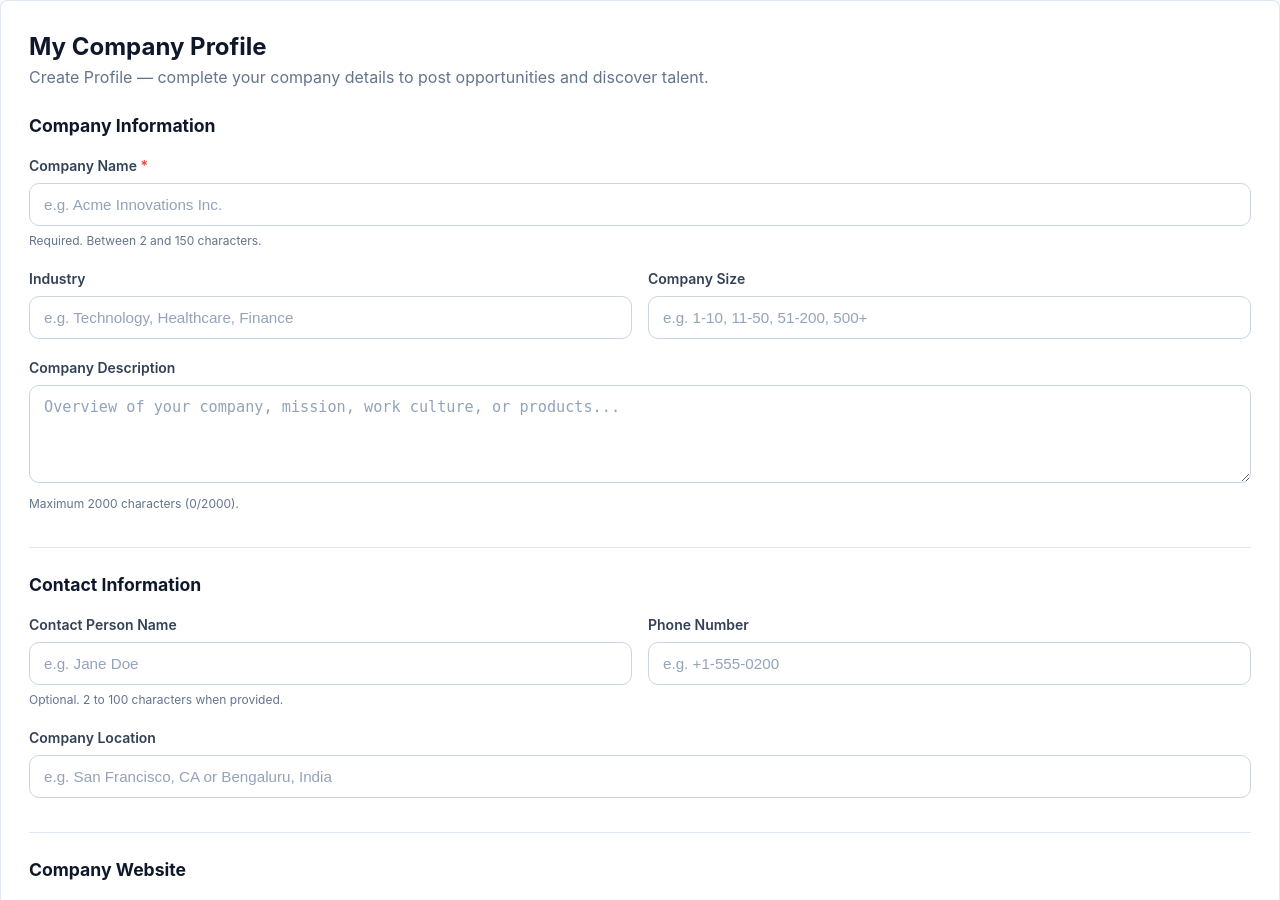
RecruiterProfilePage — Comprehensive F-04 Scenarios › Error Handling & API Resilience › handles 422 validation errors from backend detail array by mapping to field hints
The width and height of the screenshot is (1280, 900).
Type "Acme Inc." into the field labelled "Company Name *". click: x=640, y=205
box: [29, 183, 1251, 226]
(page scrolled)
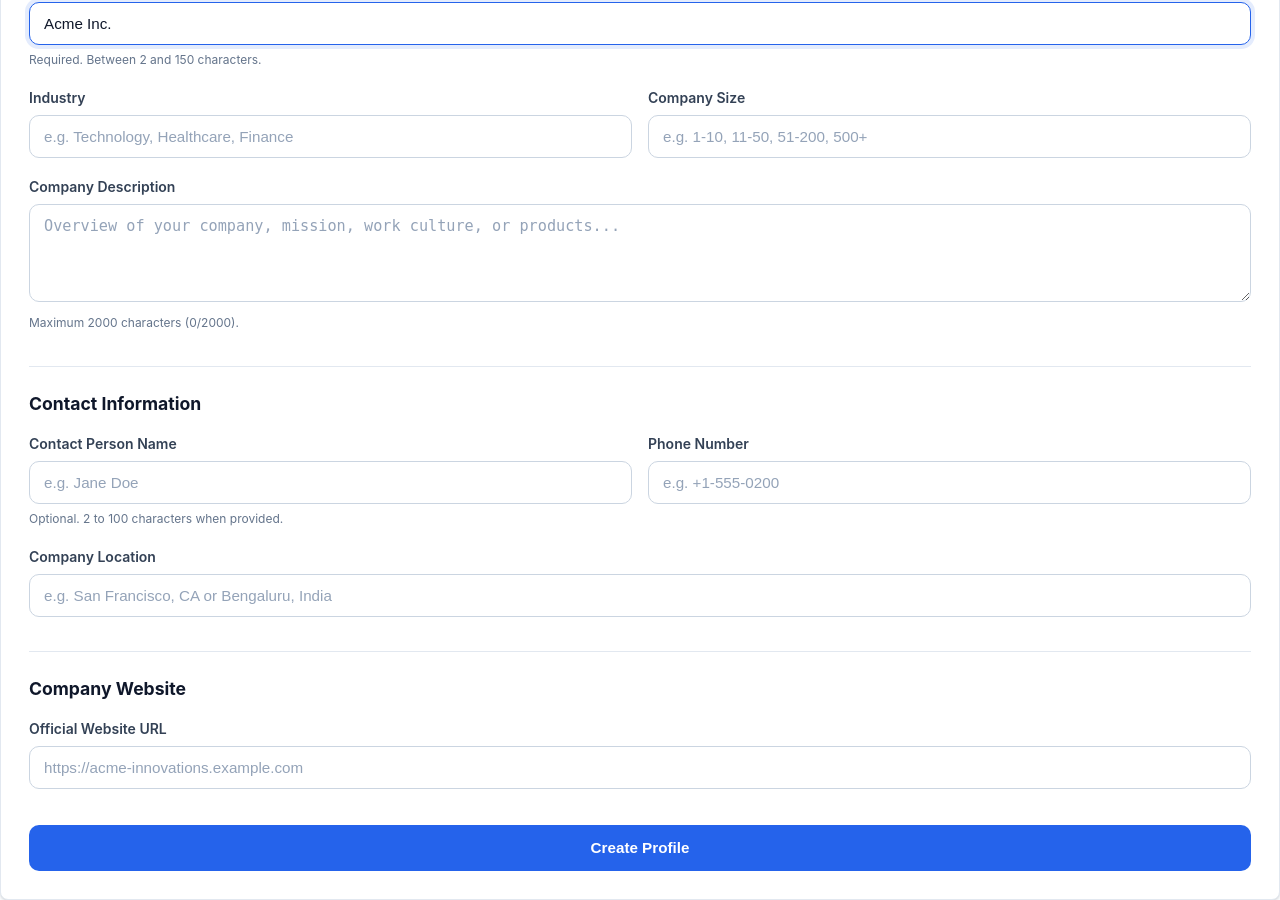
Click the button "Create Profile". click: x=640, y=848
box: [29, 825, 1251, 871]
(page scrolled)
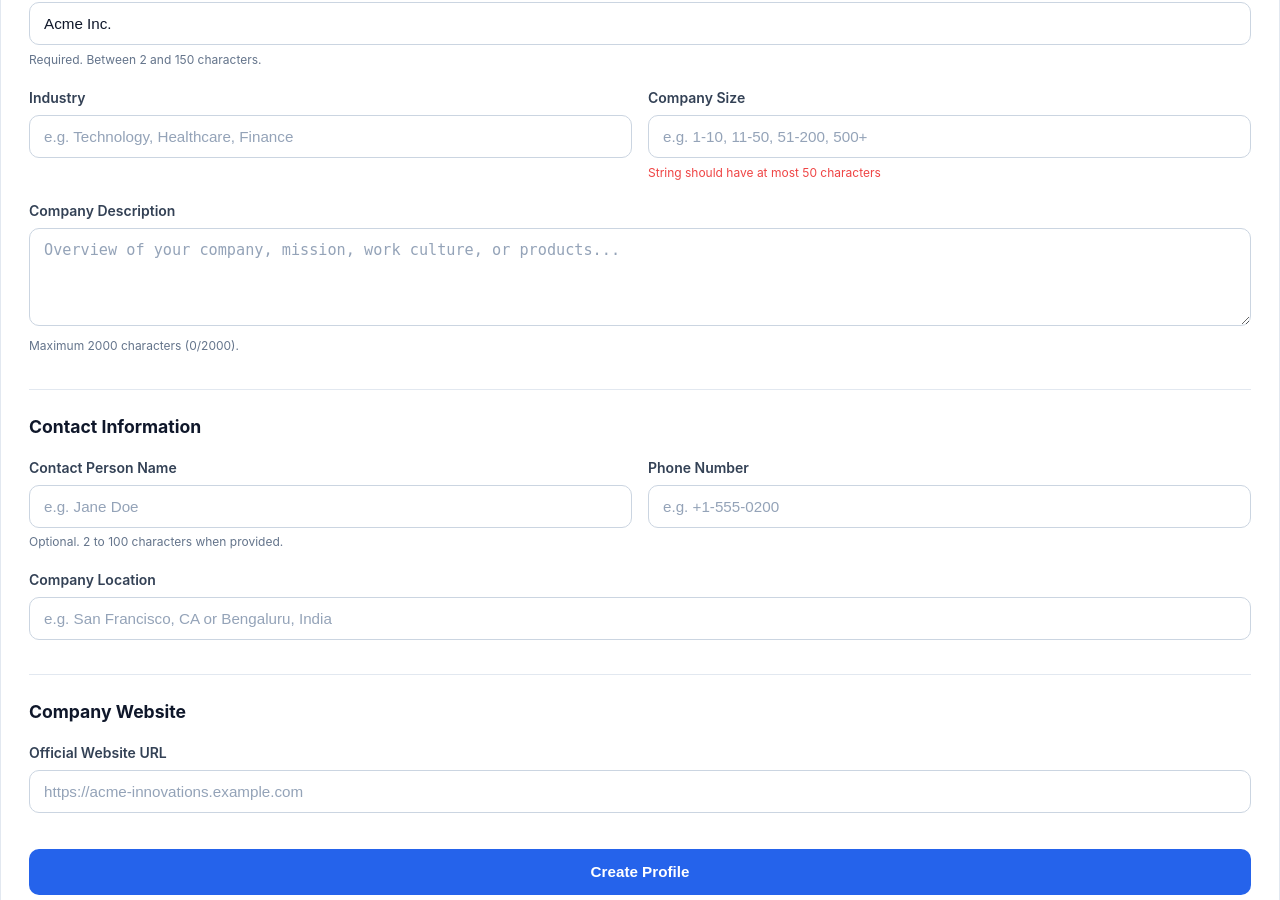
Check: the text "String should have at most 50 characters" is shown, box [648, 165, 881, 180]
